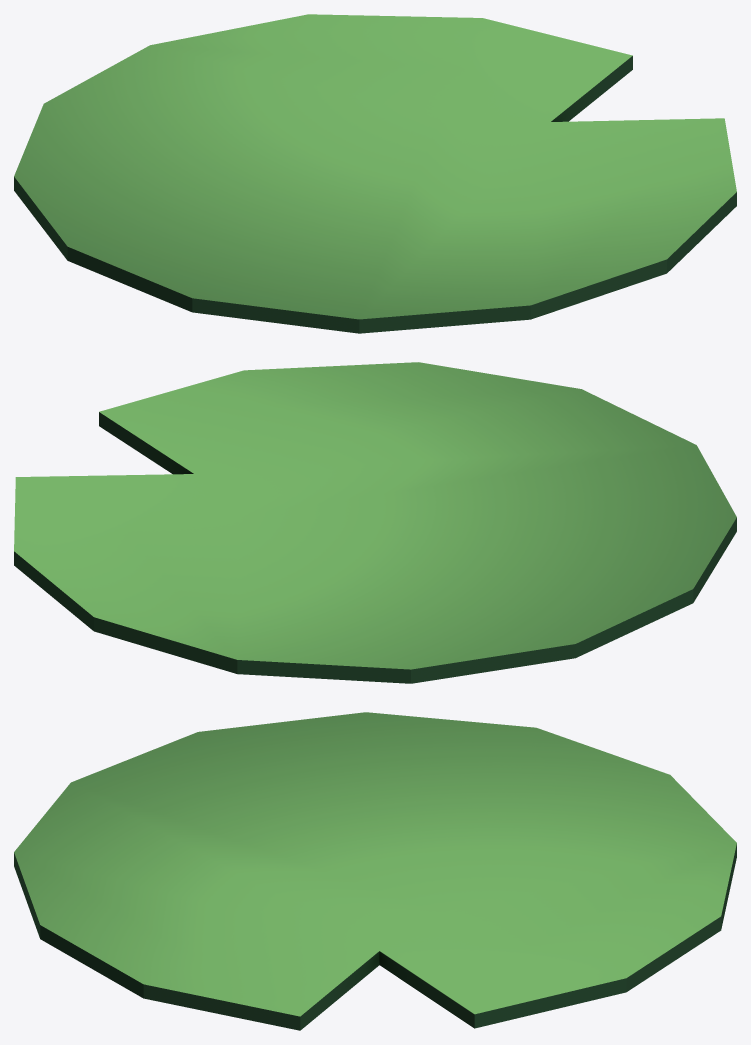
Rendered from lily.glb.
The picture shows the model from 3 angles, top to bottom: view 1: azimuth 30°, elevation 25°; view 2: azimuth 150°, elevation 25°; view 3: azimuth 270°, elevation 25°; orthographic projection.
Parts seen in each view (by area): view 1: Lilly_Lilly_0; view 2: Lilly_Lilly_0; view 3: Lilly_Lilly_0.
Boxes of the visible parts, box(x1,y1,x2,y2) form: Lilly_Lilly_0: box(14, 14, 736, 333); Lilly_Lilly_0: box(14, 362, 736, 683); Lilly_Lilly_0: box(14, 712, 736, 1030).
Size of the model in its own units: 1.98 by 0.043 by 1.99.
Materials: 1 (1 with a texture image).
